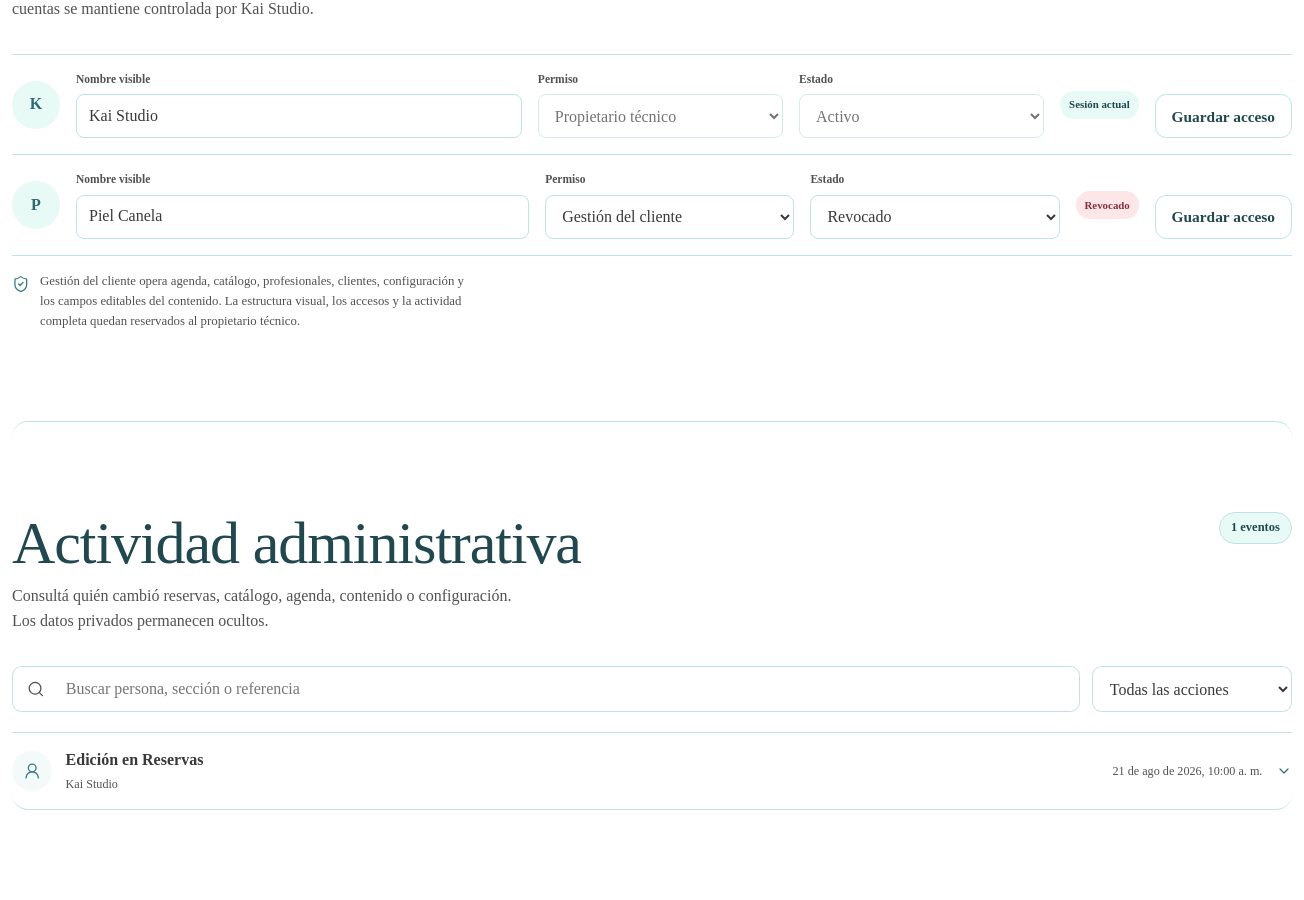
Test: GovernanceAdmin › protege la cuenta actual y oculta valores privados de la auditoría
(page scrolled)
Expected: the text "Sesión actual" is shown, [1060,91,1139,119]
Expected: the dropdown labelled "Permiso" in the row of "Sesión actual" is disabled, [538,94,783,138]
Step 1. Click the text "Edición en Reservas" → [134, 760], box [66,751,203,768]
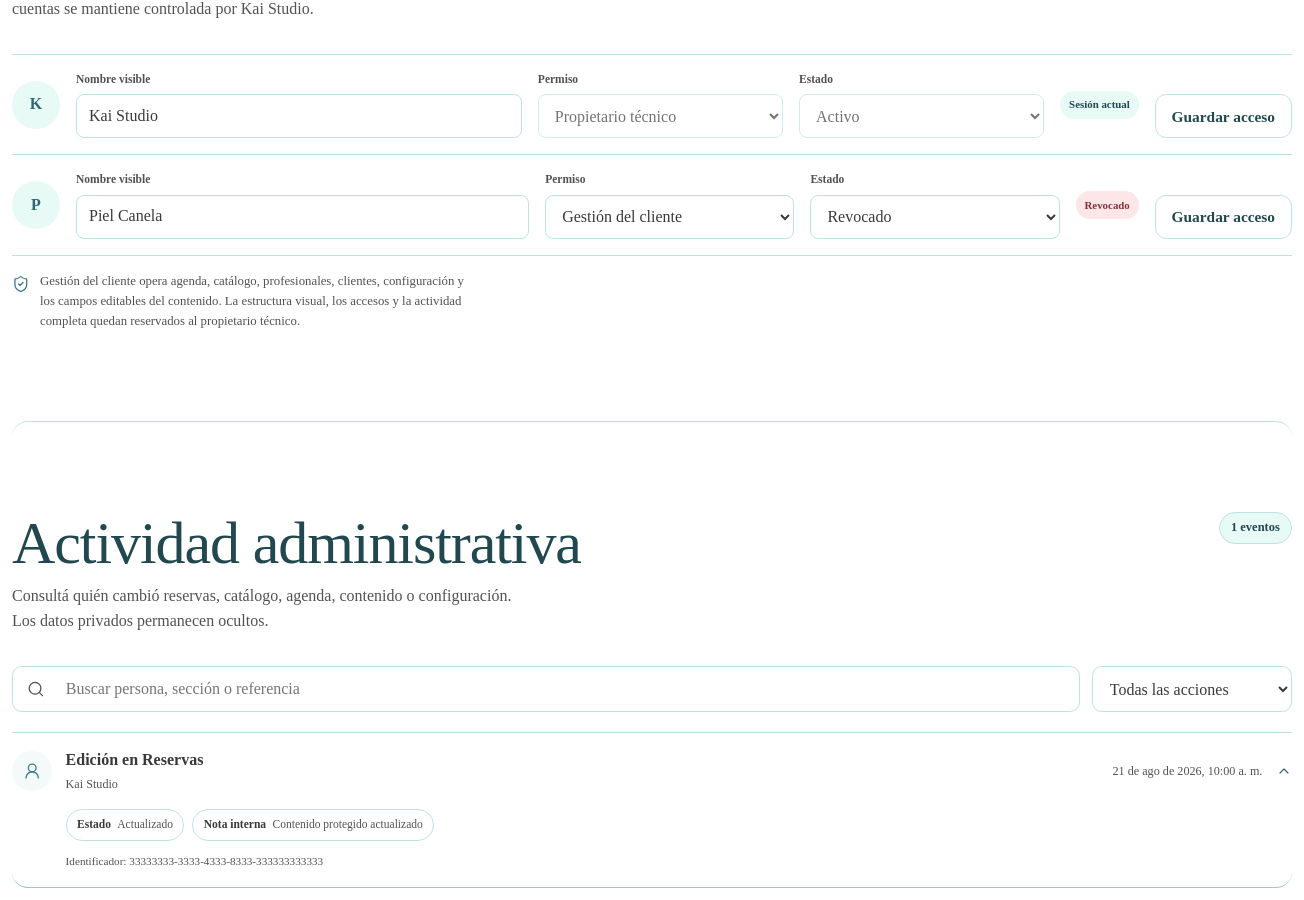
Expected: the 1st text "Estado" is shown, [799,73,833,85]
Expected: the text "Contenido protegido actualizado" is shown, [272,816,423,834]
